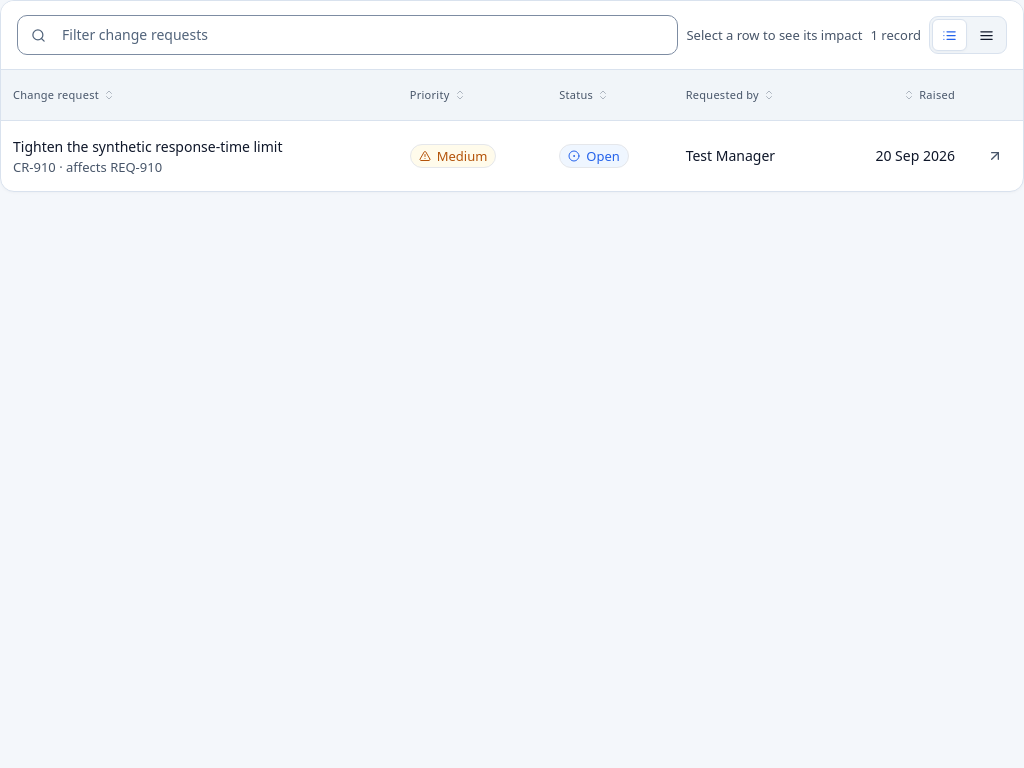
Test: change impact evidence › says the impact cannot be assessed instead of showing a risk level
This screenshot has width=1024, height=768.
Click the text "Tighten the synthetic response-time limit": (148,146) top-left (13, 137), bottom-right (282, 156)
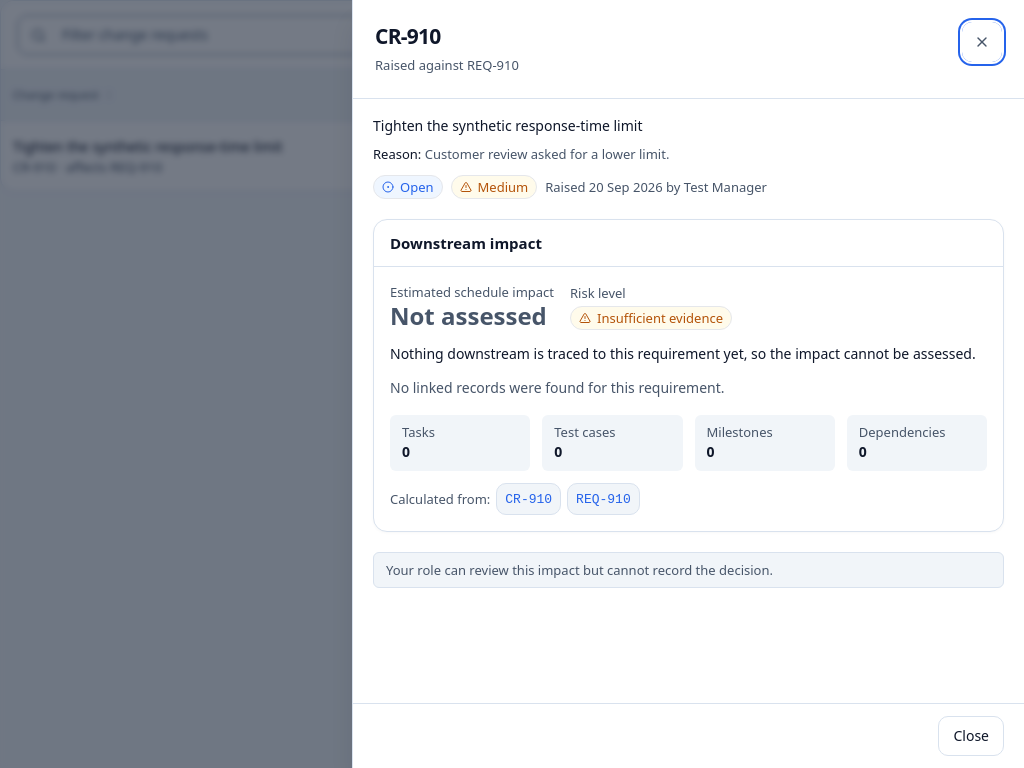
Check: the text "Insufficient evidence" is shown, box top-left (570, 306), bottom-right (732, 330)
Check: the text "Not assessed" is shown, box top-left (390, 301), bottom-right (554, 331)
Check: the text "Nothing downstream is traced to this requirement yet, so the impact cannot be assessed." is shown, box top-left (390, 344), bottom-right (976, 363)
